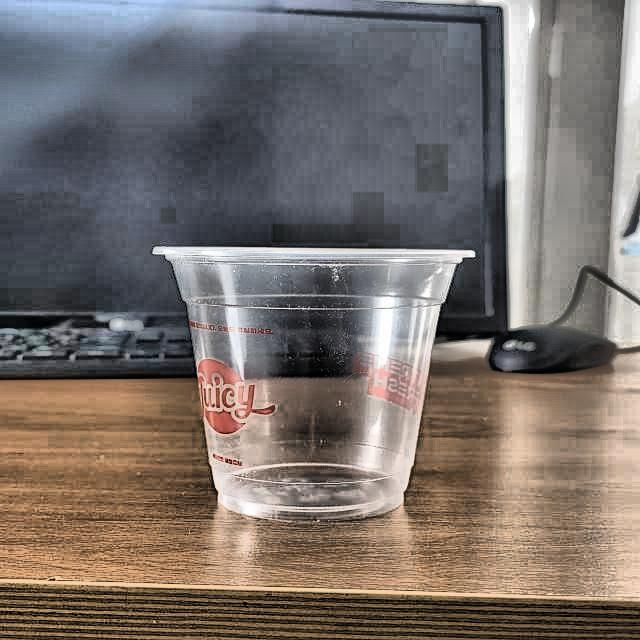plastic cup: (149, 242, 479, 522)
